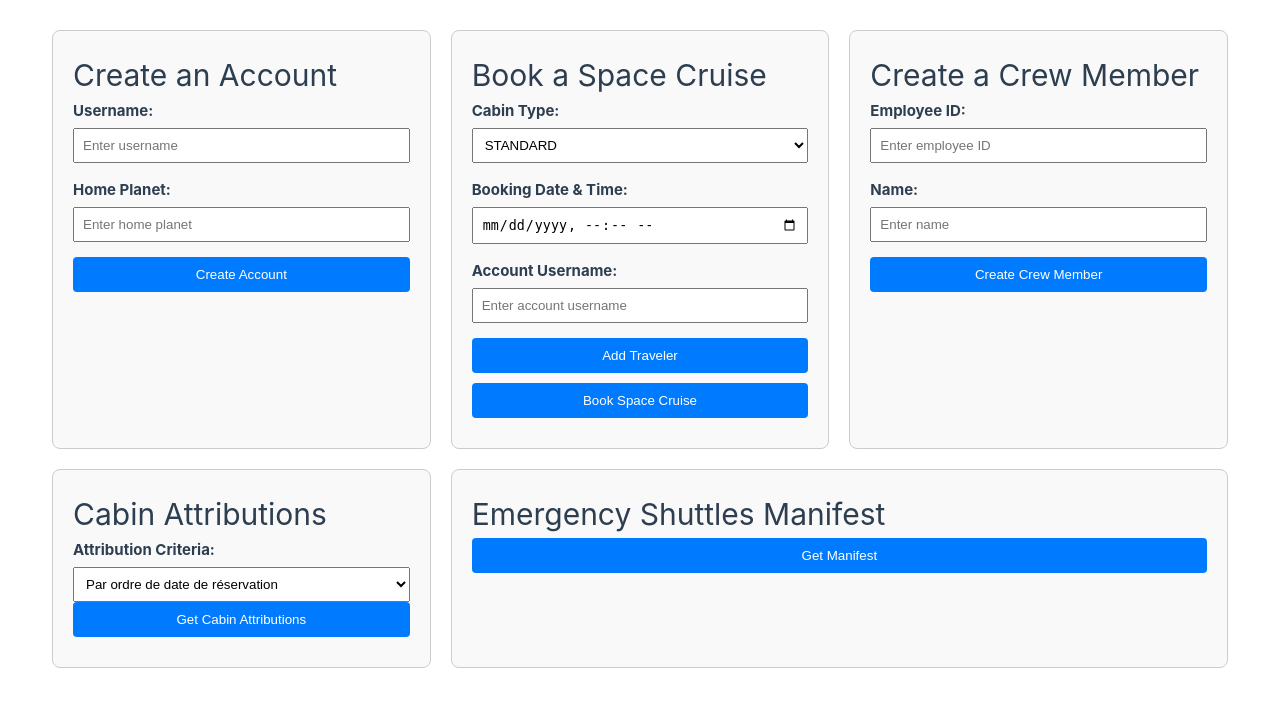
Test case: Cabin Attributions › displays cabin attributions table when cabins are present
(page scrolled)
Click the button with test id "fetch-cabin-attribution".
click(242, 620)  # box [73, 602, 410, 637]
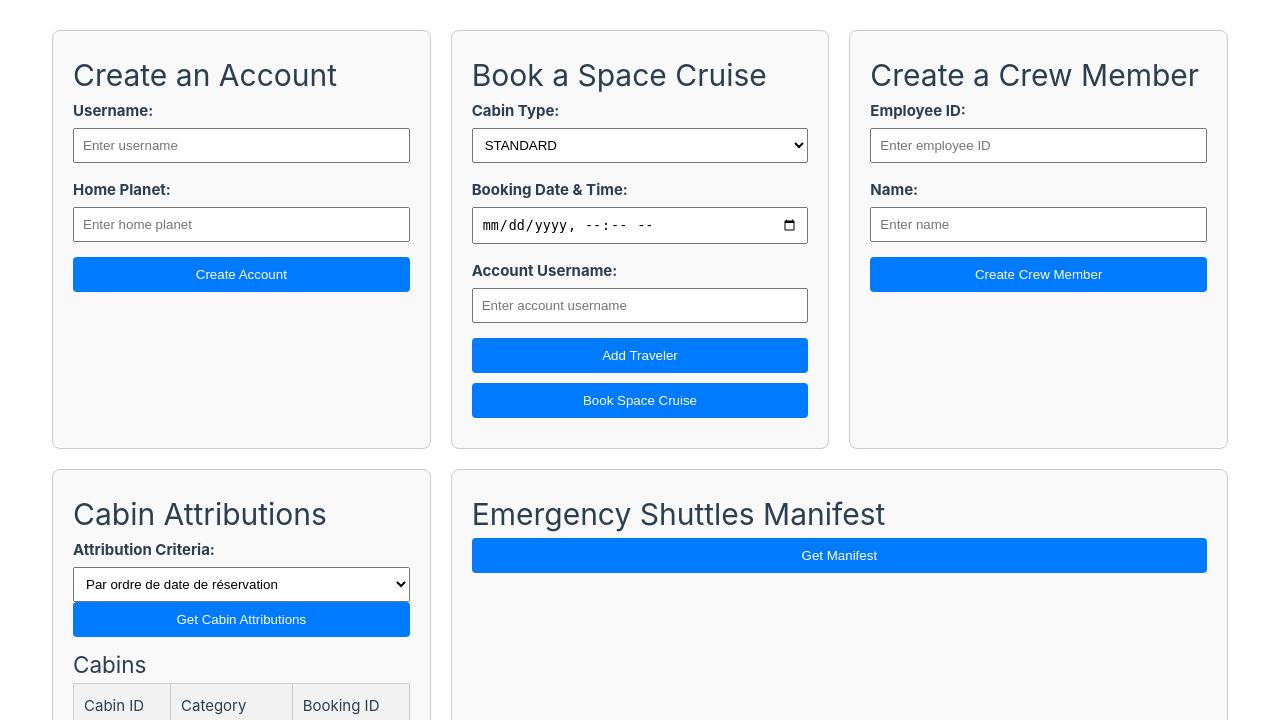
Result: the table is shown at [73, 683, 410, 719]
